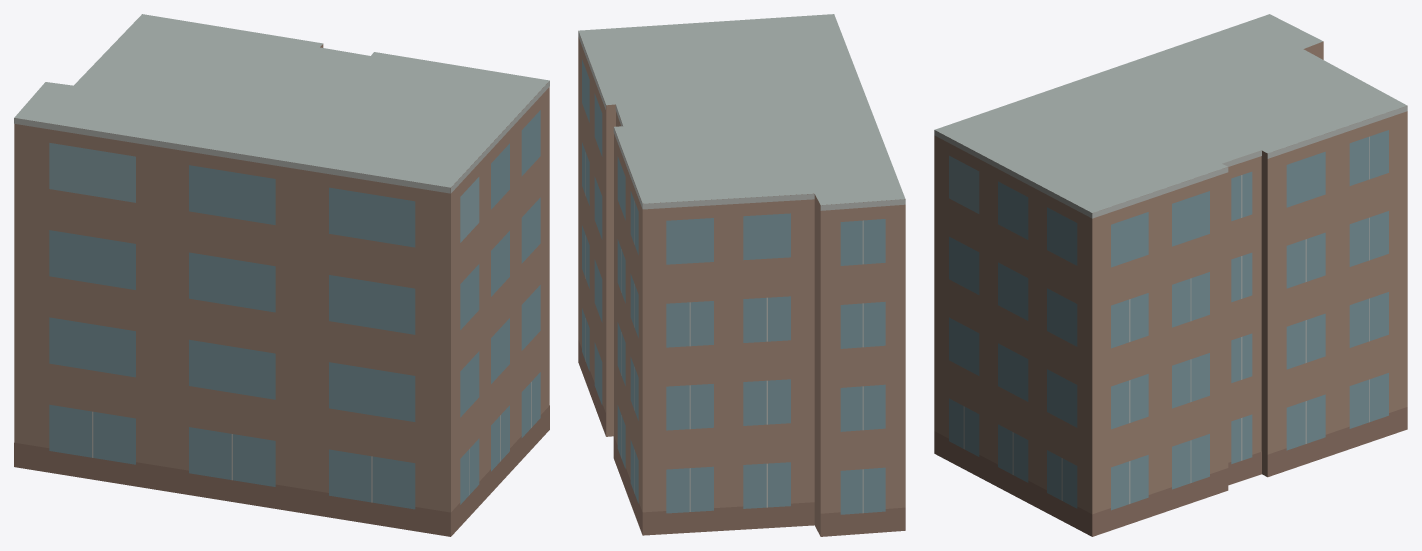
Rendered from survey-upis-33040687.glb.
The picture shows the model from 3 angles, left to right: view 1: azimuth 30°, elevation 25°; view 2: azimuth 150°, elevation 25°; view 3: azimuth 270°, elevation 25°; orthographic projection. The views are drawn at different scales.
Parts seen in each view (by area): view 1: survey-upis-33040687.tmp; view 2: survey-upis-33040687.tmp; view 3: survey-upis-33040687.tmp.
Part boxes in pixels (bbox=[...]): survey-upis-33040687.tmp: bbox=[14, 14, 549, 536]; survey-upis-33040687.tmp: bbox=[578, 14, 905, 536]; survey-upis-33040687.tmp: bbox=[934, 14, 1407, 536].
Bounding box in the file's own units: 18.87 × 14.3 × 18.95.
